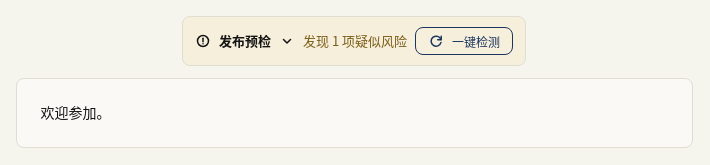
Test: 发布预检面板 › 一键检测按当前正文重算，删掉的内容不会继续报
Click the button "一键检测" at point(464, 41), box [415,27,513,55]
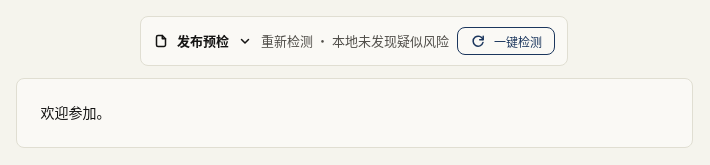
Now the message "重新检测 · 本地未发现疑似风险" is shown, box [261,31,449,51]
